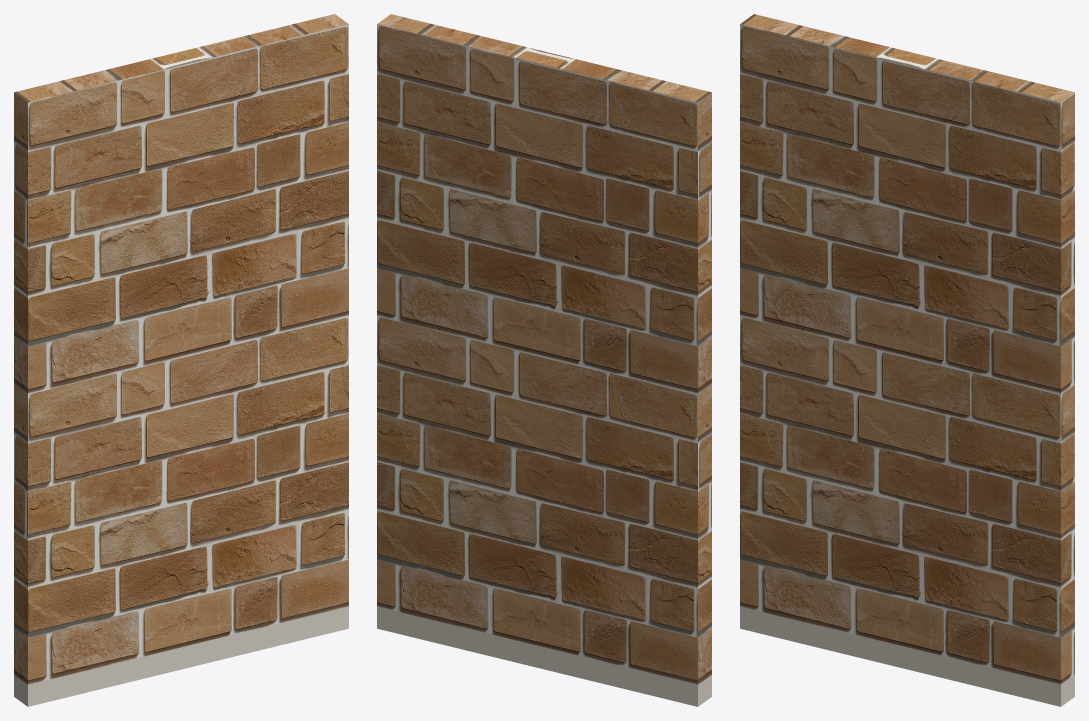
File: ARC0210059.fbx
3 renders of one model, left to right at view 1: azimuth 30°, elevation 25°; view 2: azimuth 150°, elevation 25°; view 3: azimuth 330°, elevation 25°, orthographic.
Parts seen in each view (by area): view 1: smARC0210059; view 2: smARC0210059; view 3: smARC0210059.
Part boxes in pixels (<box>): smARC0210059: <box>14,14,348,706</box>; smARC0210059: <box>377,14,711,706</box>; smARC0210059: <box>740,14,1074,706</box>.
Size of the model in its own units: 182 by 328 by 13.67.
Materials: 1 (1 with a texture image).
